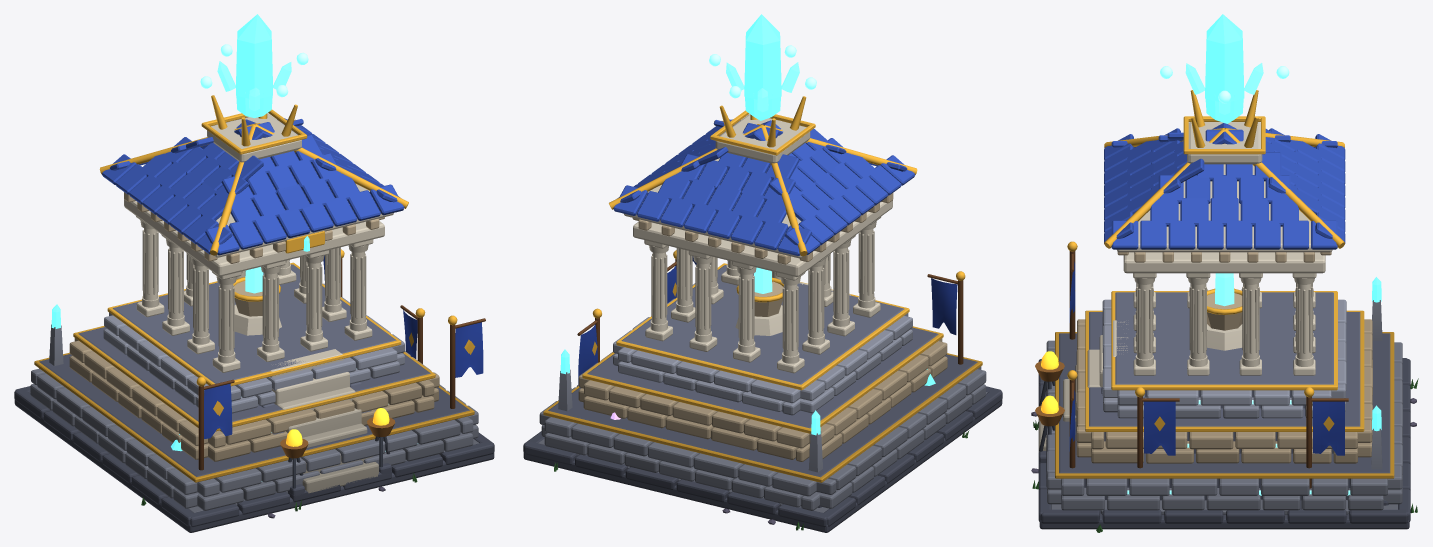
The model's file is primordial_temple.glb.
The picture shows the model from 3 angles, left to right: view 1: azimuth 30°, elevation 25°; view 2: azimuth 150°, elevation 25°; view 3: azimuth 270°, elevation 25°; orthographic projection. The views are drawn at different scales.
Parts seen in each view (by area): view 1: t0_marble, t0_stone_dark, t0_roof_blue, t0_stone, t0_stone_warm, t2_gold, t0_gold, core_t0_spinY30_bob8_crystal, t1_cloth_blue, t1_wood_dark, t1_gold, core_t0_spinY30_bob8_crystal_teal (+1 smaller); view 2: t0_stone_dark, t0_stone, t0_roof_blue, t0_marble, t0_stone_warm, t2_gold, core_t0_spinY30_bob8_crystal, t0_gold, t1_cloth_blue, t1_gold, t2_stone, t1_wood_dark (+1 smaller); view 3: t0_stone_dark, t0_roof_blue, t0_stone, t0_marble, t0_stone_warm, t2_gold, t1_cloth_blue, core_t0_spinY30_bob8_crystal, t0_gold, t1_wood_dark, t1_gold, core_t0_spinY30_bob8_crystal_teal (+3 smaller).
Part boxes in pixels (<box>): t0_marble: <box>124,113,393,493</box>; t0_stone_dark: <box>14,264,494,532</box>; t0_roof_blue: <box>102,118,404,255</box>; t0_stone: <box>29,283,479,512</box>; t0_stone_warm: <box>69,192,439,461</box>; t2_gold: <box>34,262,474,482</box>; t0_gold: <box>99,95,408,301</box>; core_t0_spinY30_bob8_crystal: <box>235,14,273,118</box>; t1_cloth_blue: <box>204,255,483,438</box>; t1_wood_dark: <box>198,258,485,470</box>; t1_gold: <box>196,109,475,415</box>; core_t0_spinY30_bob8_crystal_teal: <box>217,61,291,111</box>; t0_stone_dark: <box>523,265,1002,532</box>; t0_stone: <box>538,283,987,512</box>; t0_roof_blue: <box>613,119,915,255</box>; t0_marble: <box>624,114,892,373</box>; t0_stone_warm: <box>578,193,947,461</box>; t2_gold: <box>543,263,982,482</box>; core_t0_spinY30_bob8_crystal: <box>744,14,781,120</box>; t0_gold: <box>609,96,917,302</box>; t1_cloth_blue: <box>578,256,957,383</box>; t1_gold: <box>592,110,965,355</box>; t2_stone: <box>558,369,822,492</box>; t1_wood_dark: <box>577,259,963,364</box>; t0_stone_dark: <box>1038,292,1410,529</box>; t0_roof_blue: <box>1104,123,1345,249</box>; t0_stone: <box>1046,299,1402,514</box>; t0_marble: <box>1038,122,1332,452</box>; t0_stone_warm: <box>1076,252,1372,463</box>; t2_gold: <box>1055,291,1394,478</box>; t1_cloth_blue: <box>1069,261,1344,455</box>; core_t0_spinY30_bob8_crystal: <box>1205,14,1244,123</box>; t0_gold: <box>1104,90,1344,314</box>; t1_wood_dark: <box>1069,251,1348,488</box>; t1_gold: <box>1067,116,1334,430</box>; core_t0_spinY30_bob8_crystal_teal: <box>1185,63,1263,114</box>.
Size of the model in its own units: 4.1 by 5.18 by 4.12.
